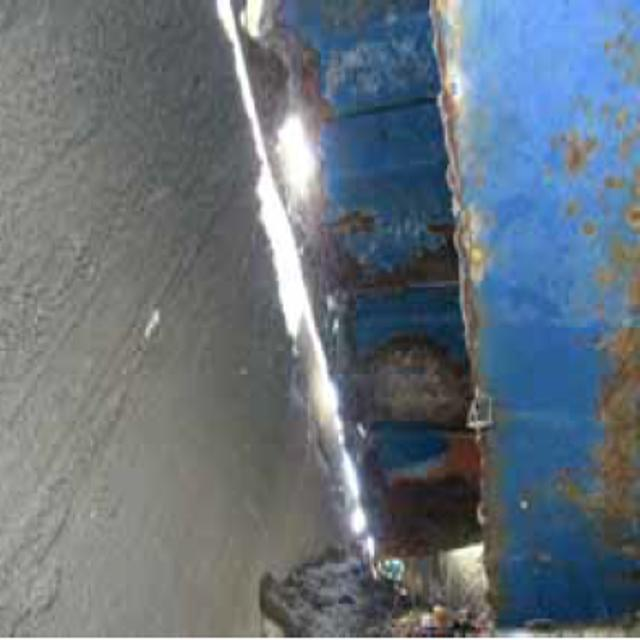corrosion: (220, 53, 640, 548)
